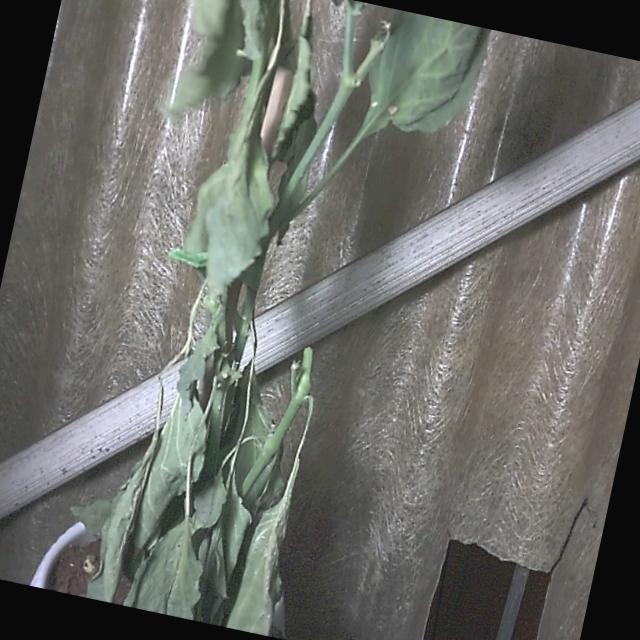Leaf: (226, 405, 310, 634), (363, 10, 487, 132), (133, 395, 205, 554), (164, 0, 245, 115), (124, 520, 201, 618), (70, 499, 110, 536)
